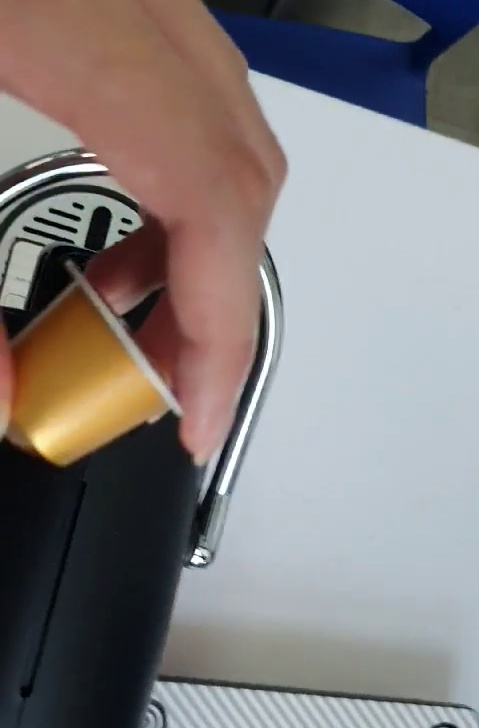capsule_8: (1, 260, 192, 468)
